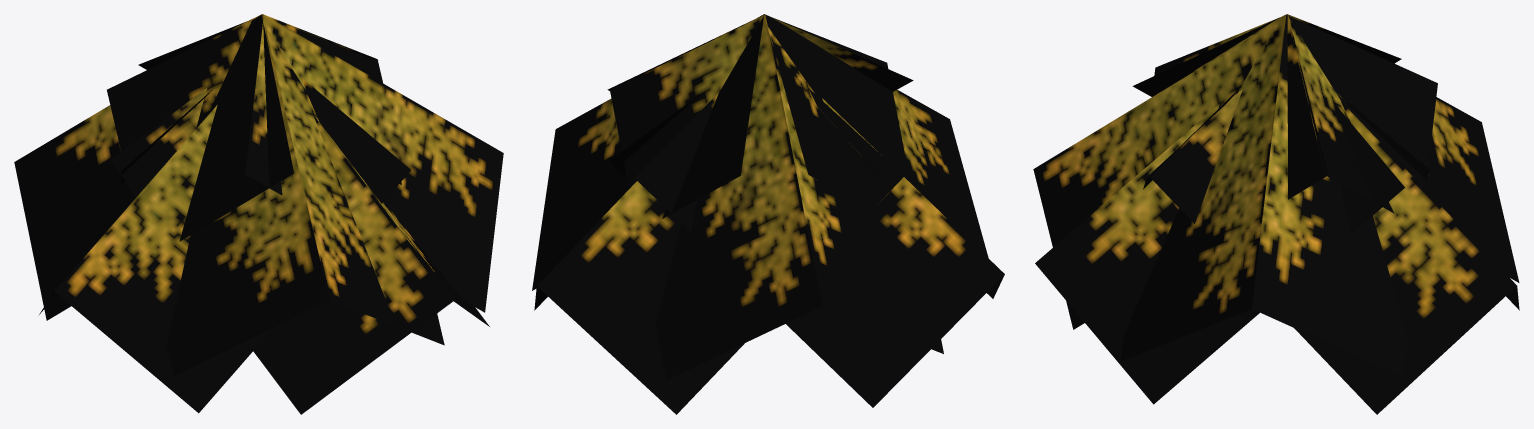
File: larch_leaves_omnidirectional.obj
The picture shows the model from 3 angles, left to right: view 1: azimuth 30°, elevation 25°; view 2: azimuth 150°, elevation 25°; view 3: azimuth 270°, elevation 25°; orthographic projection.
Visible parts, largest first — view 1: plane; view 2: plane; view 3: plane.
Part boxes in pixels (left/top/right/bottom): plane: left=14, top=14, right=503, bottom=414; plane: left=532, top=14, right=1004, bottom=414; plane: left=1033, top=14, right=1519, bottom=414.
Bounding box in the file's own units: 2.76 × 1.8 × 2.56.
